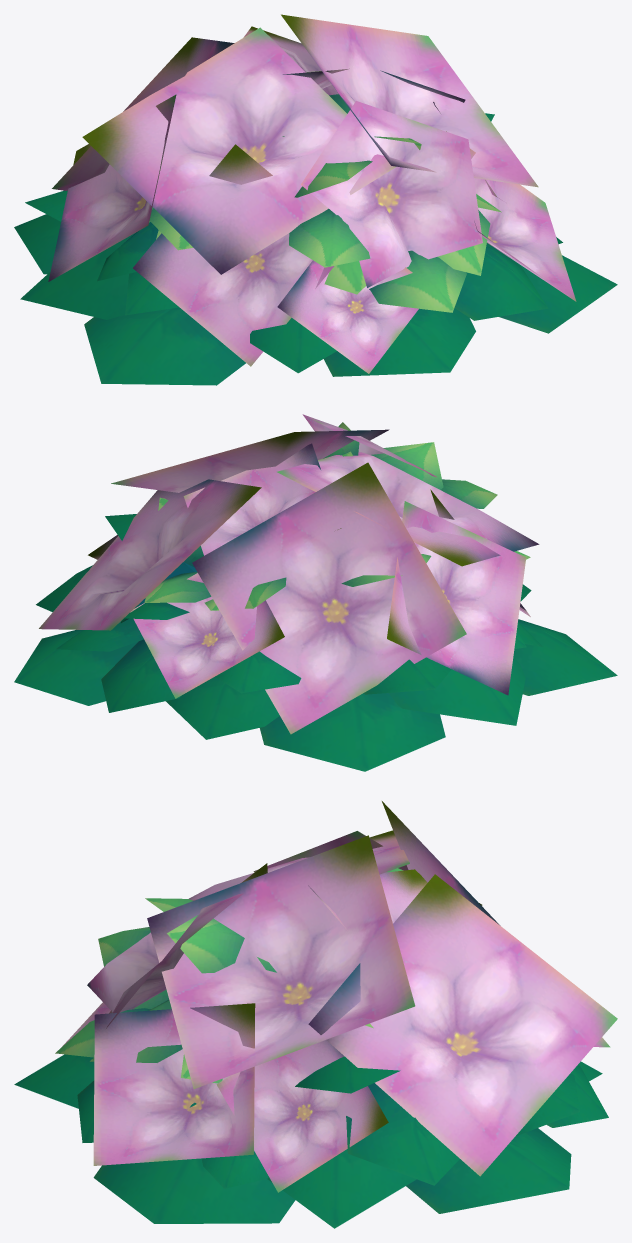
The model's file is Homeworld_Exterior_Common_Prop_Flower_FloralDesign_08_Vo.fbx.
3 renders of one model, top to bottom at view 1: azimuth 30°, elevation 25°; view 2: azimuth 150°, elevation 25°; view 3: azimuth 270°, elevation 25°, orthographic. The views are drawn at different scales.
Parts seen in each view (by area): view 1: Homeworld_Exterior_Common_Prop_Flower_FloralDesign_08_Vo; view 2: Homeworld_Exterior_Common_Prop_Flower_FloralDesign_08_Vo; view 3: Homeworld_Exterior_Common_Prop_Flower_FloralDesign_08_Vo.
Boxes of the visible parts, x1,y1,x2,y2 form: Homeworld_Exterior_Common_Prop_Flower_FloralDesign_08_Vo: [14, 14, 617, 385]; Homeworld_Exterior_Common_Prop_Flower_FloralDesign_08_Vo: [14, 414, 617, 771]; Homeworld_Exterior_Common_Prop_Flower_FloralDesign_08_Vo: [14, 801, 617, 1228].
Size of the model in its own units: 0.3817 by 0.1935 by 0.3716.
